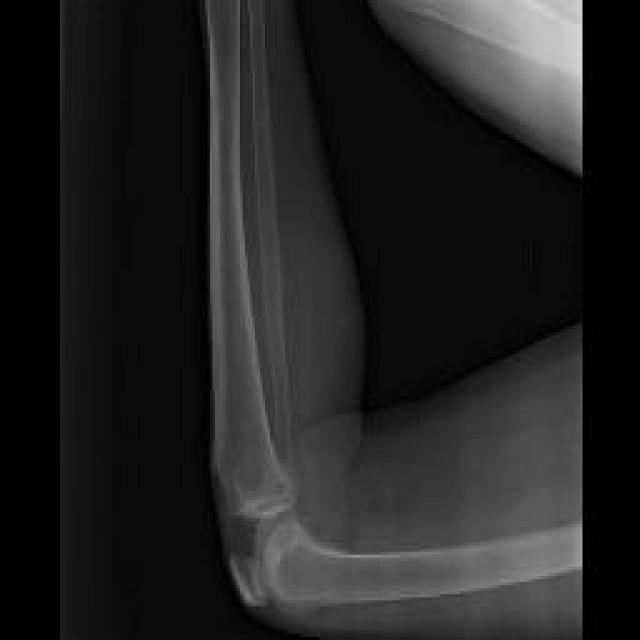normal: (208, 0, 299, 519), (225, 510, 582, 607)
